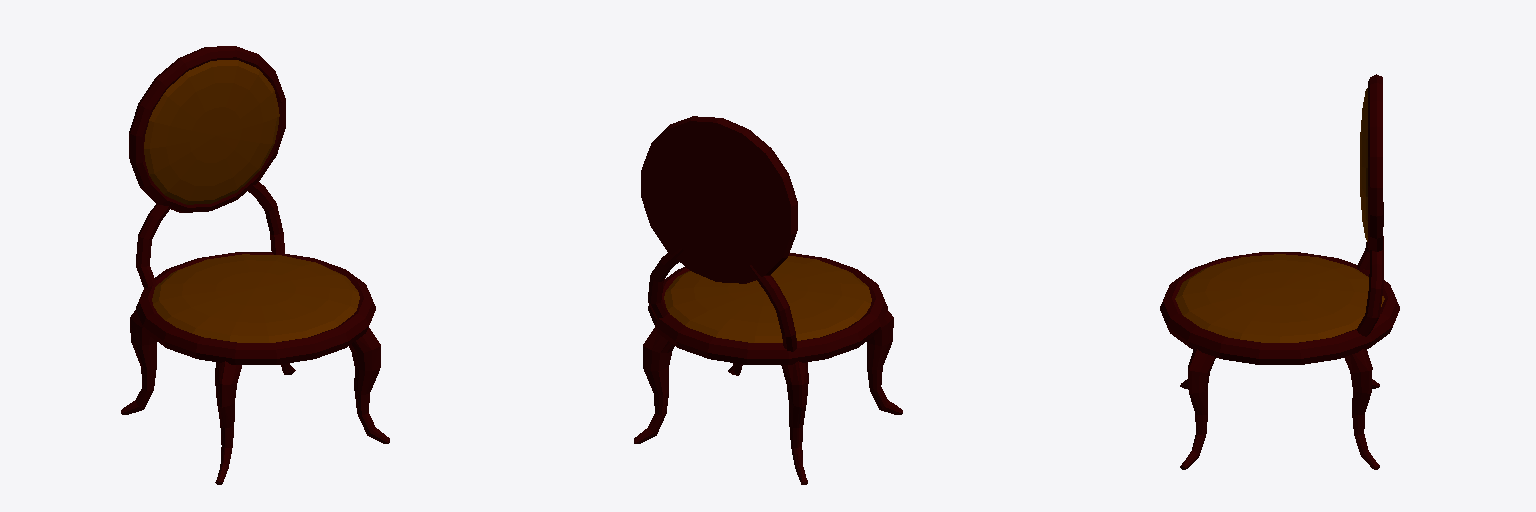
Rendered from Renessaince_chair.obj.
The picture shows the model from 3 angles: view 1: azimuth 30°, elevation 25°; view 2: azimuth 150°, elevation 25°; view 3: azimuth 270°, elevation 25°; orthographic projection.
Visible parts, largest first — view 1: Renessaince_chair; view 2: Renessaince_chair; view 3: Renessaince_chair.
Boxes of the visible parts, x1,y1,x2,y2 form: Renessaince_chair: [121, 46, 389, 484]; Renessaince_chair: [634, 116, 902, 484]; Renessaince_chair: [1160, 74, 1399, 469].
Size of the model in its own units: 72.64 by 117 by 73.76.